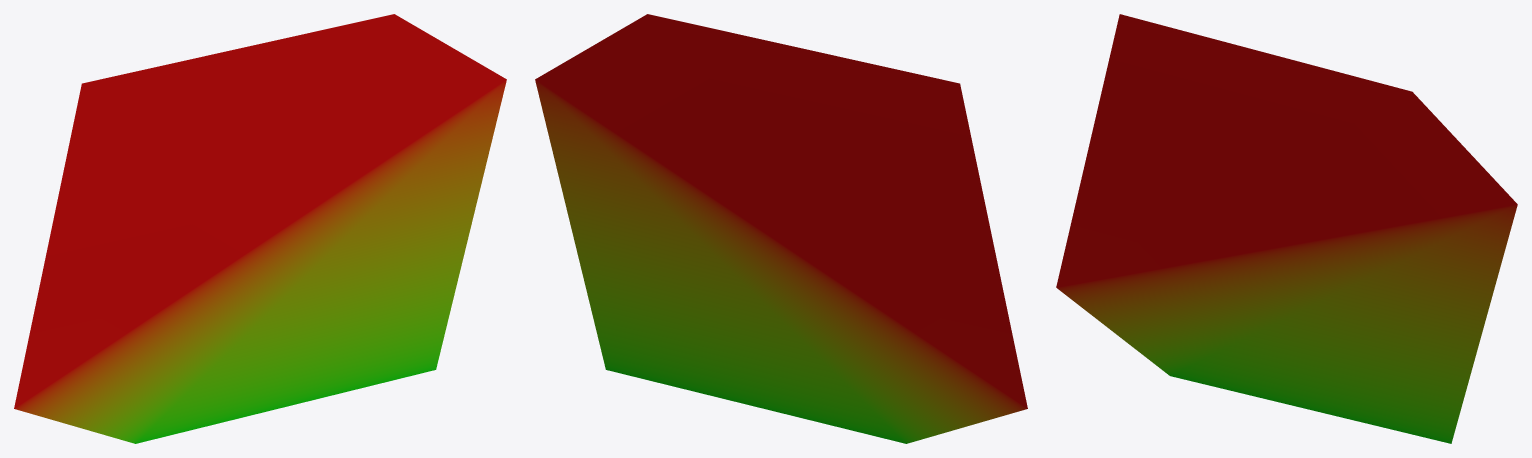
Rendered from Lily Of The Valley_LOD7_Var3_xikkdhjja.fbx.
3 views of the same model, side by side, from view 1: azimuth 30°, elevation 25°; view 2: azimuth 150°, elevation 25°; view 3: azimuth 330°, elevation 25° (orthographic). The views are drawn at different scales.
Parts seen in each view (by area): view 1: _qn8z_Var3_LOD7; view 2: _qn8z_Var3_LOD7; view 3: _qn8z_Var3_LOD7.
Part boxes in pixels (box(x1,y1,x2,y2)): _qn8z_Var3_LOD7: box(14, 14, 506, 443); _qn8z_Var3_LOD7: box(535, 14, 1027, 443); _qn8z_Var3_LOD7: box(1056, 14, 1517, 443).
Size of the model in its own units: 58.4 by 42.28 by 3.64e-12.
